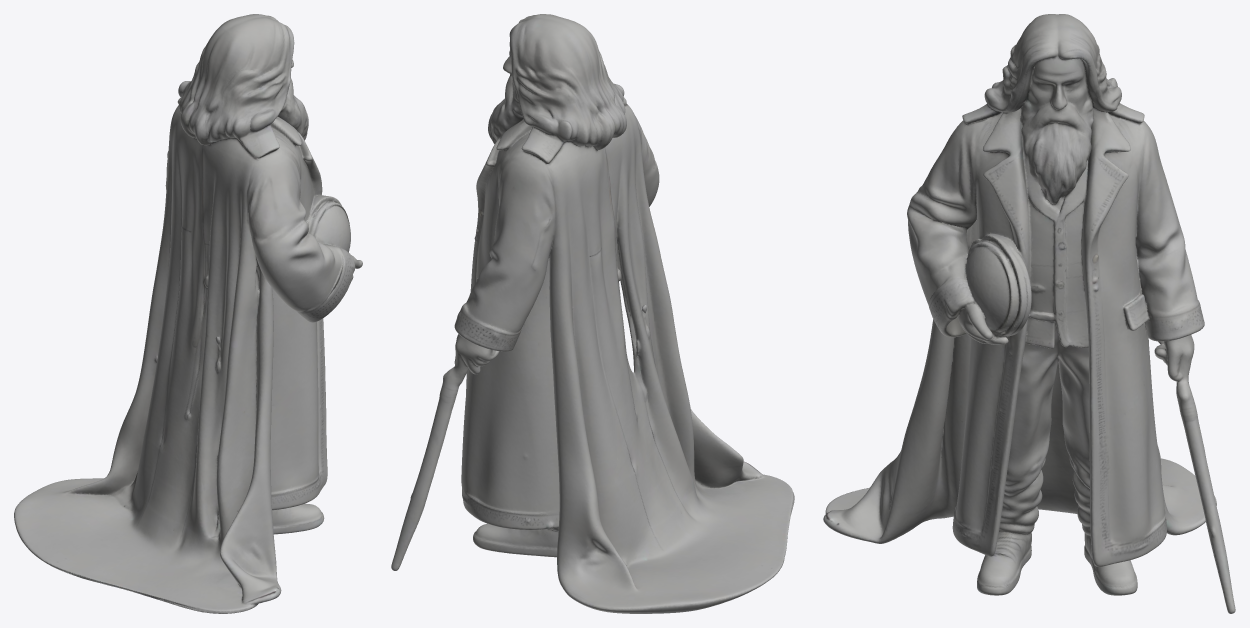
File: detailed_realistic_model_albusdumbledore_17.glb
The picture shows the model from 3 angles, left to right: view 1: azimuth 30°, elevation 25°; view 2: azimuth 150°, elevation 25°; view 3: azimuth 270°, elevation 25°; orthographic projection. The views are drawn at different scales.
Parts seen in each view (by area): view 1: tripo_node_7d1bcfc5-3d9c-4572-8594-8df0664f5fa8; view 2: tripo_node_7d1bcfc5-3d9c-4572-8594-8df0664f5fa8; view 3: tripo_node_7d1bcfc5-3d9c-4572-8594-8df0664f5fa8.
Boxes of the visible parts, x1,y1,x2,y2 form: tripo_node_7d1bcfc5-3d9c-4572-8594-8df0664f5fa8: (14, 14, 362, 613); tripo_node_7d1bcfc5-3d9c-4572-8594-8df0664f5fa8: (391, 14, 794, 613); tripo_node_7d1bcfc5-3d9c-4572-8594-8df0664f5fa8: (823, 14, 1235, 613).
Bounding box in the file's own units: 0.623 × 1 × 0.6751.
Materials: 1 (1 with a texture image).
